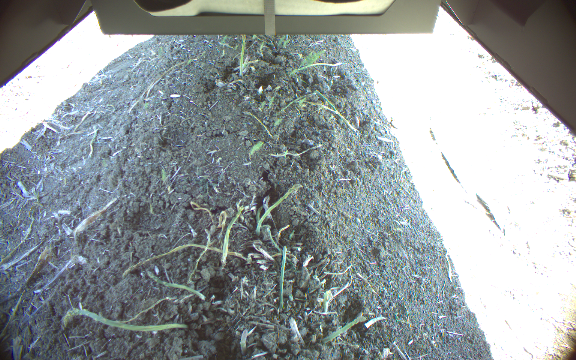aspa: (254, 182, 303, 238), (219, 205, 246, 266), (318, 315, 366, 347), (236, 34, 250, 77)
